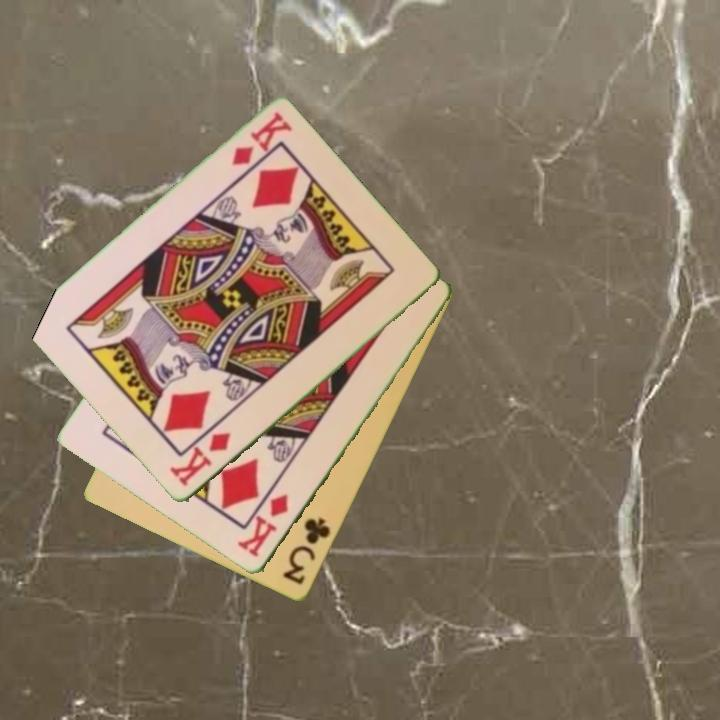3c: (279, 514, 334, 589)
Kd: (167, 429, 234, 490), (228, 109, 295, 169), (236, 490, 292, 561)
